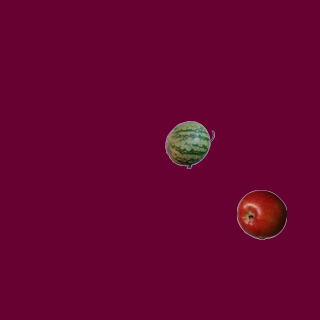Apple Braeburn: (236, 189, 286, 239)
Watermelon: (164, 119, 214, 169)
